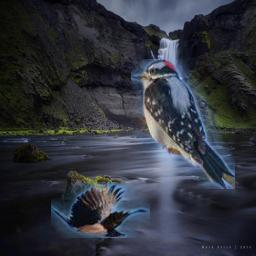Crow: (51, 182, 150, 238)
Woodpecker: (131, 59, 235, 189)
